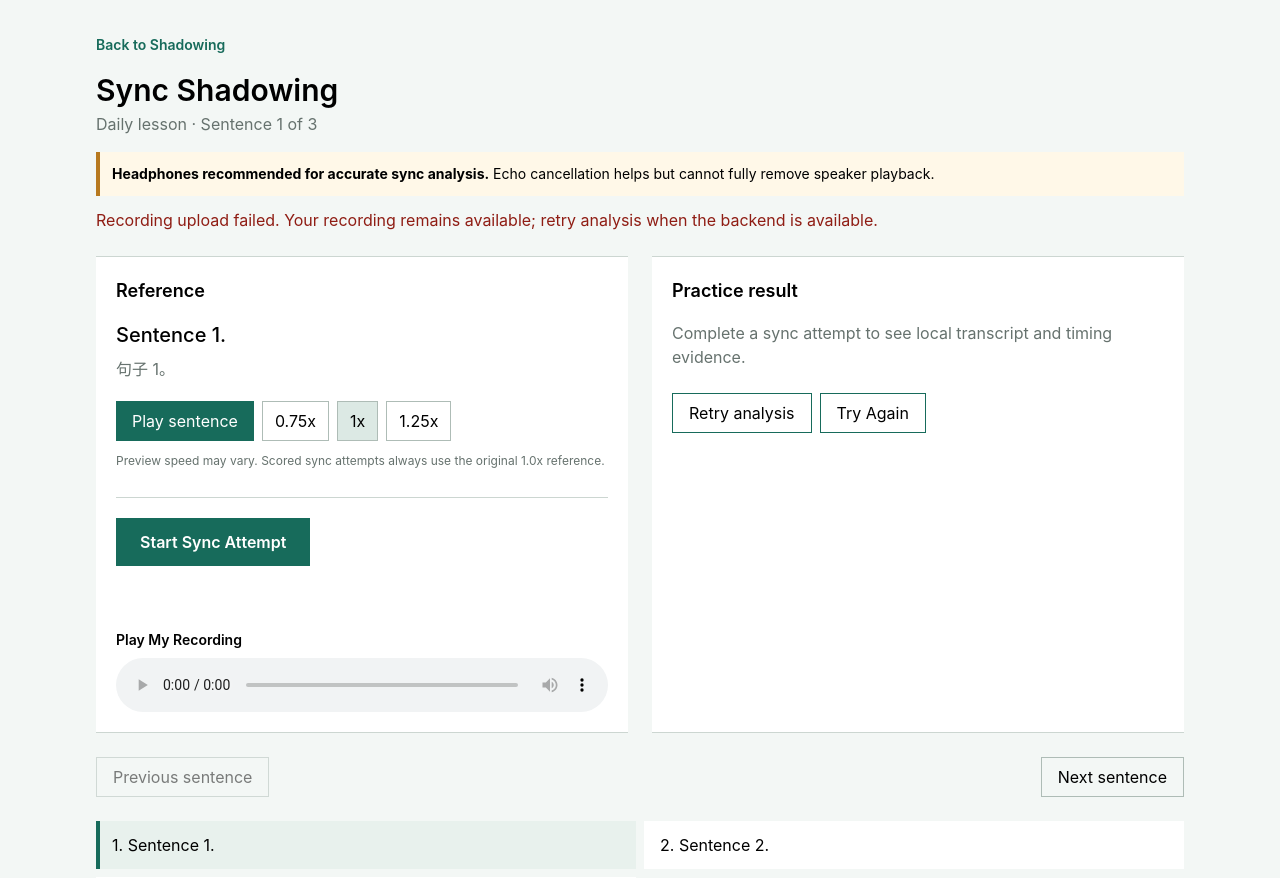
Test: Shadowing Workspace submission › keeps playback available and retries upload analysis without recapturing
Expected: the message shows "Recording upload failed", [96, 210, 878, 230]
Expected: the text "Play My Recording" is shown, [116, 631, 242, 648]
Click the button "Retry analysis" at (742, 413), box [672, 393, 812, 433]
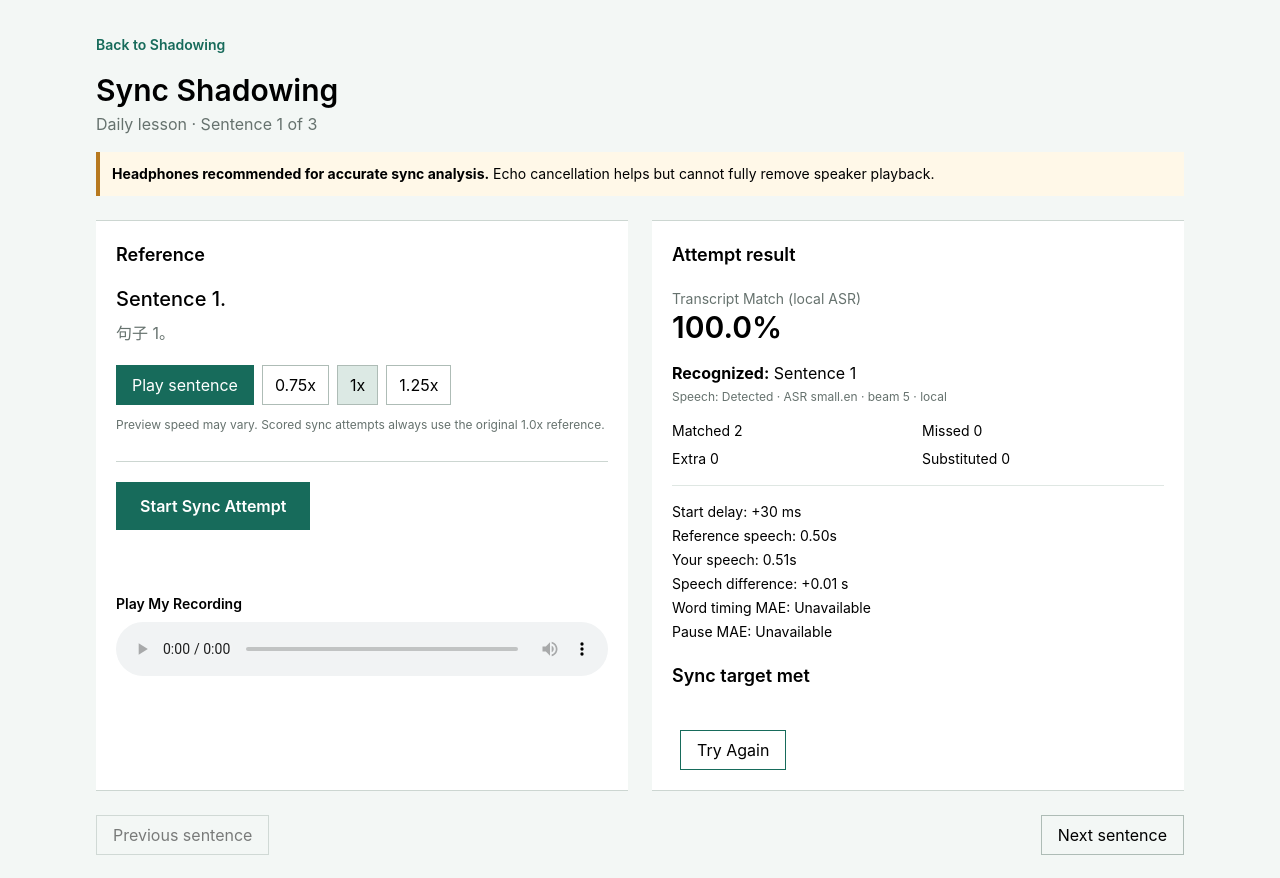
Expected: the text "100.0%" is shown, [672, 309, 782, 345]
